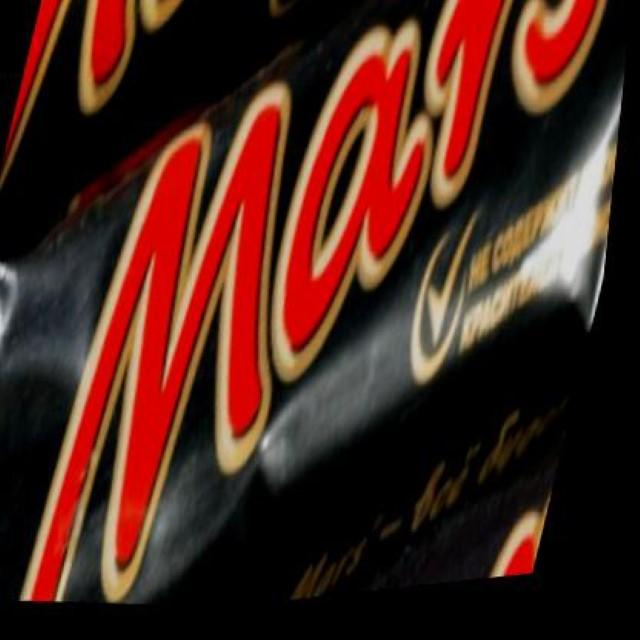mars_chocolate: (0, 47, 640, 598)
